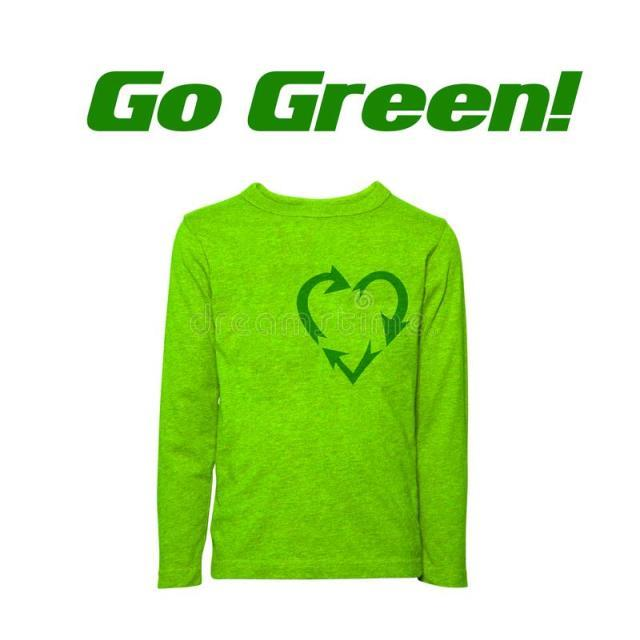clothes: (145, 163, 484, 602)
